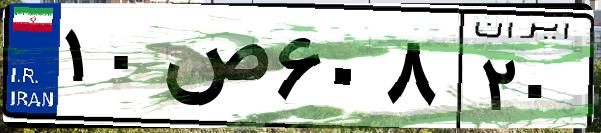0: (330, 28, 385, 110), (525, 38, 570, 115), (110, 28, 158, 98)
1: (57, 26, 110, 100)
2: (475, 38, 525, 113)
6: (270, 28, 330, 110)
8: (385, 28, 445, 110)
ص: (158, 20, 270, 120)
